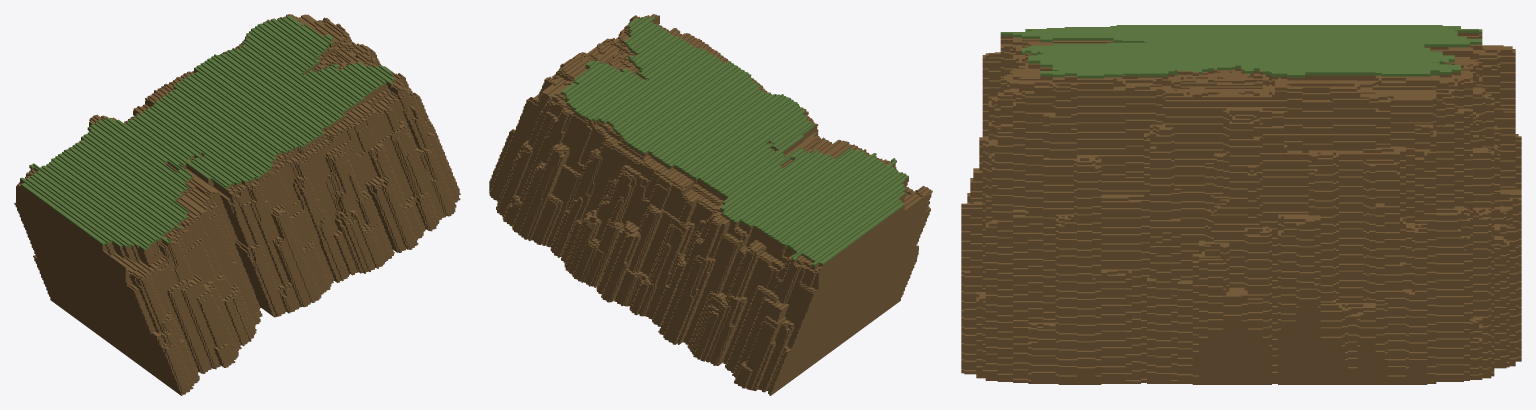
The model's file is forest1.1-93.obj.
The picture shows the model from 3 angles, left to right: view 1: azimuth 30°, elevation 25°; view 2: azimuth 150°, elevation 25°; view 3: azimuth 270°, elevation 25°; orthographic projection. The views are drawn at different scales.
Size of the model in its own units: 25.6 by 17.7 by 18.4.
1 material, 1 textured.
